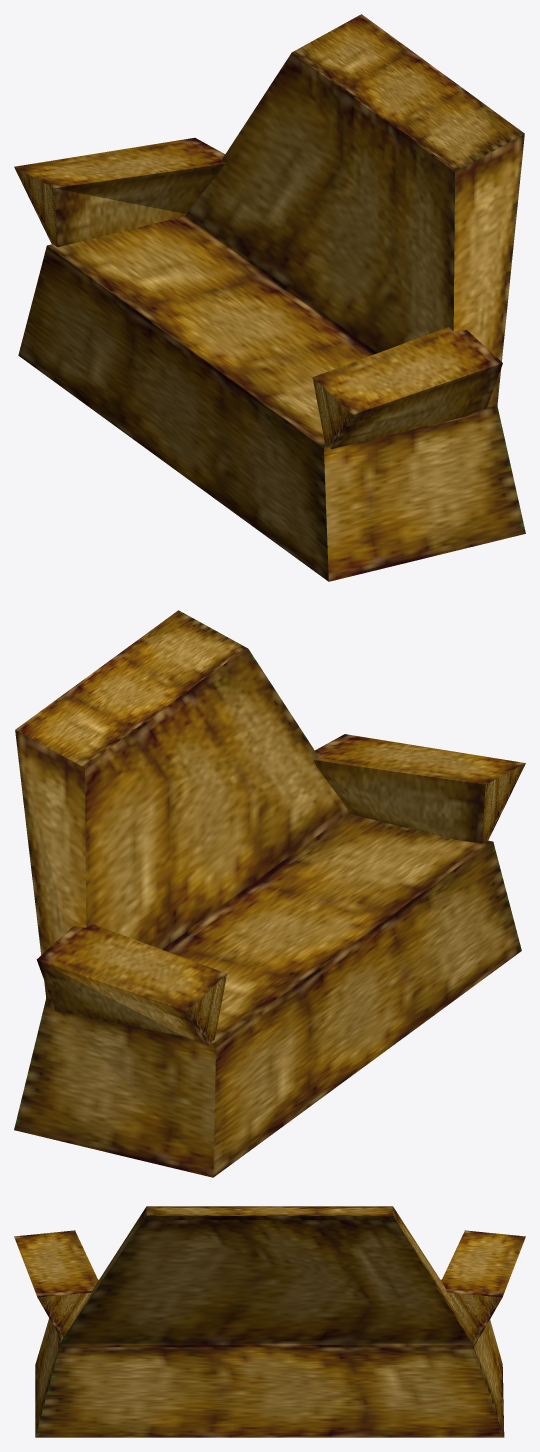
Rendered from Couch_2_2595.glb.
The picture shows the model from 3 angles, top to bottom: view 1: azimuth 30°, elevation 25°; view 2: azimuth 150°, elevation 25°; view 3: azimuth 270°, elevation 25°; orthographic projection. The views are drawn at different scales.
Visible parts, largest first — view 1: pPlaneShape1, pPlaneShape2, pCylinderShape73, pCylinderShape74, pPlaneShape4, pPlaneShape6, pPlaneShape8; view 2: pPlaneShape1, pPlaneShape3, pCylinderShape73, pCylinderShape74, pPlaneShape5, pPlaneShape8, pPlaneShape6; view 3: pPlaneShape1, pCylinderShape74, pCylinderShape73, pPlaneShape3, pPlaneShape2, pPlaneShape7, pPlaneShape9, pPlaneShape5, pPlaneShape4.
Part boxes in pixels (x1,y1,x2,y2): pPlaneShape1: (18, 14, 524, 581); pPlaneShape2: (324, 406, 525, 581); pCylinderShape73: (313, 327, 502, 449); pCylinderShape74: (14, 137, 225, 247); pPlaneShape4: (453, 134, 524, 407); pPlaneShape6: (14, 167, 57, 246); pPlaneShape8: (312, 377, 352, 448); pPlaneShape1: (15, 610, 521, 1177); pPlaneShape3: (14, 998, 215, 1177); pCylinderShape73: (314, 734, 525, 843); pCylinderShape74: (36, 923, 226, 1045); pPlaneShape5: (15, 730, 86, 999); pPlaneShape8: (482, 763, 525, 843); pPlaneShape6: (187, 974, 226, 1045); pPlaneShape1: (35, 1206, 503, 1437); pCylinderShape74: (441, 1230, 525, 1297); pCylinderShape73: (14, 1230, 98, 1297); pPlaneShape3: (472, 1319, 504, 1436); pPlaneShape2: (35, 1318, 60, 1436); pPlaneShape7: (447, 1292, 502, 1345); pPlaneShape9: (37, 1292, 91, 1339); pPlaneShape5: (393, 1207, 471, 1342); pPlaneShape4: (61, 1207, 146, 1342).
Size of the model in its own units: 0.159 by 0.1844 by 0.3448.
Materials: 11 (11 with a texture image).
